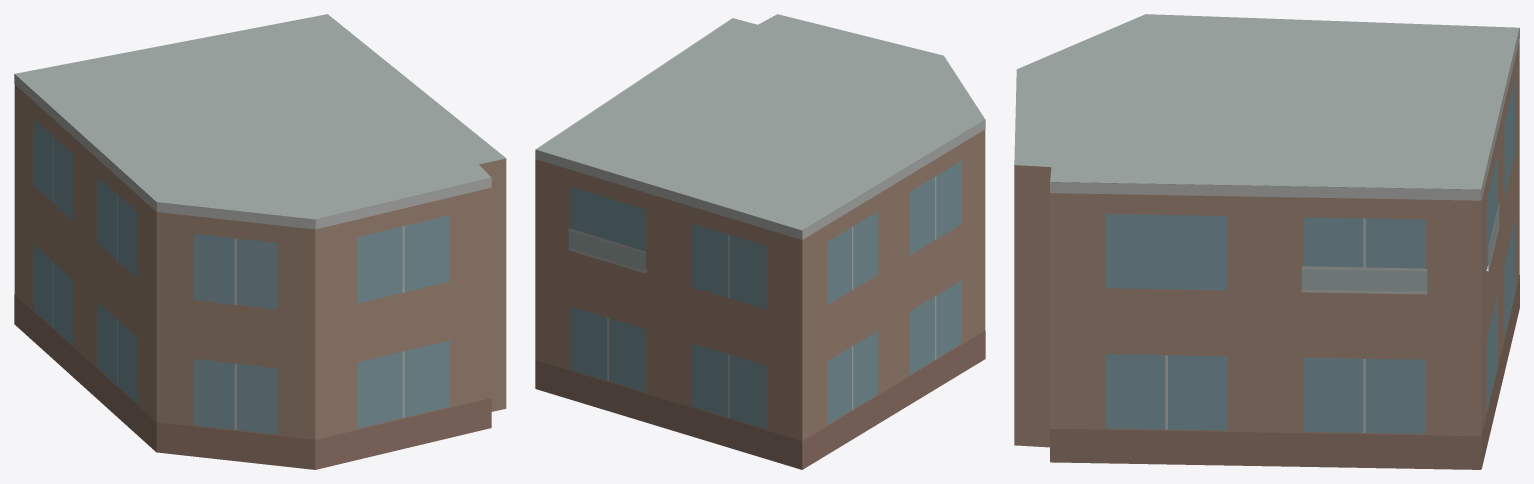
File: survey-upis-32722675.glb
3 views of the same model, side by side, from view 1: azimuth 30°, elevation 25°; view 2: azimuth 150°, elevation 25°; view 3: azimuth 270°, elevation 25° (orthographic). The views are drawn at different scales.
Parts seen in each view (by area): view 1: survey-upis-32722675.tmp; view 2: survey-upis-32722675.tmp; view 3: survey-upis-32722675.tmp.
Boxes of the visible parts, box(x1,y1,x2,y2) form: survey-upis-32722675.tmp: box(14, 14, 506, 469); survey-upis-32722675.tmp: box(535, 14, 985, 469); survey-upis-32722675.tmp: box(1014, 14, 1519, 469).
Bounding box in the file's own units: 8.2 × 6.1 × 9.98.
